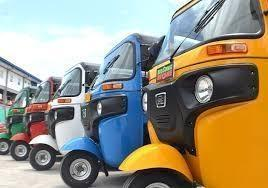keke: (119, 21, 266, 188)
